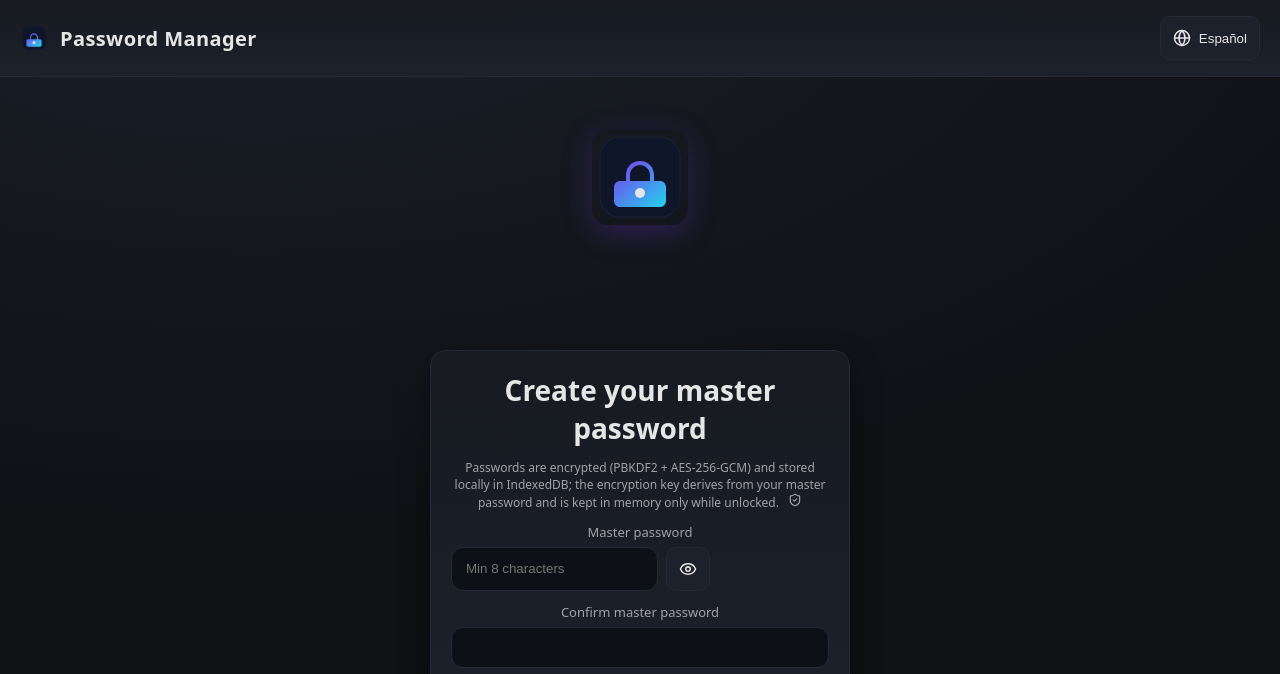
it: session-state › setup flow creates a vault and lands on the manager
Check: the heading "Create your master password" is shown, box left=505, top=371, right=775, bottom=447
Type "Str0ng!Pass" into the password field labelled "Master password" at (554, 569), box left=451, top=547, right=658, bottom=591
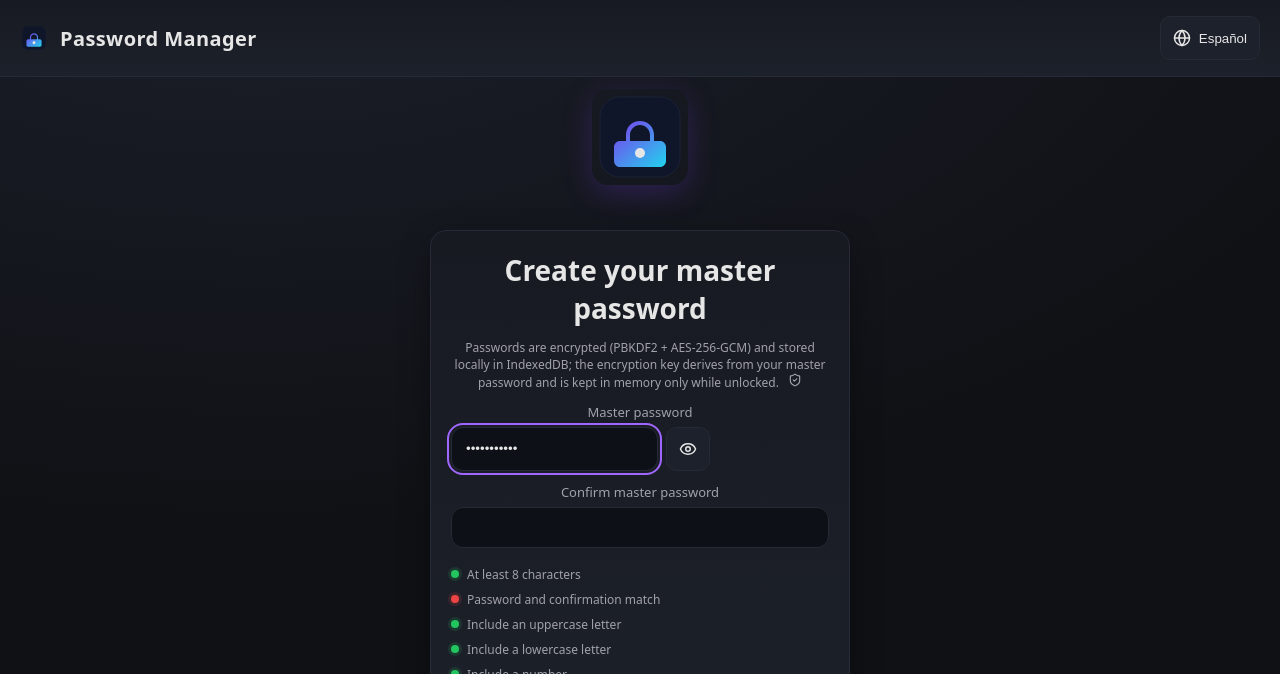
Type "Str0ng!Pass" into the password field labelled "Confirm master password" at (640, 527), box left=451, top=507, right=829, bottom=548
(page scrolled)
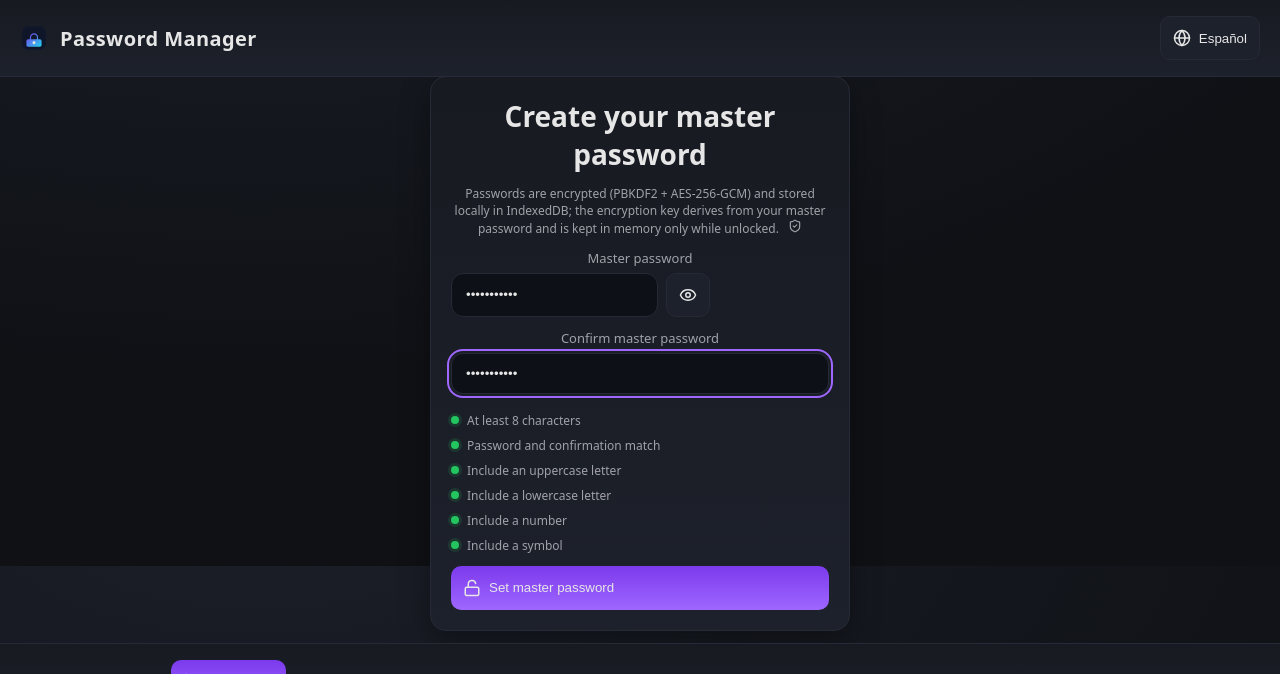
Click the button "Set master password" at (552, 588), box left=451, top=566, right=829, bottom=610
(page scrolled)
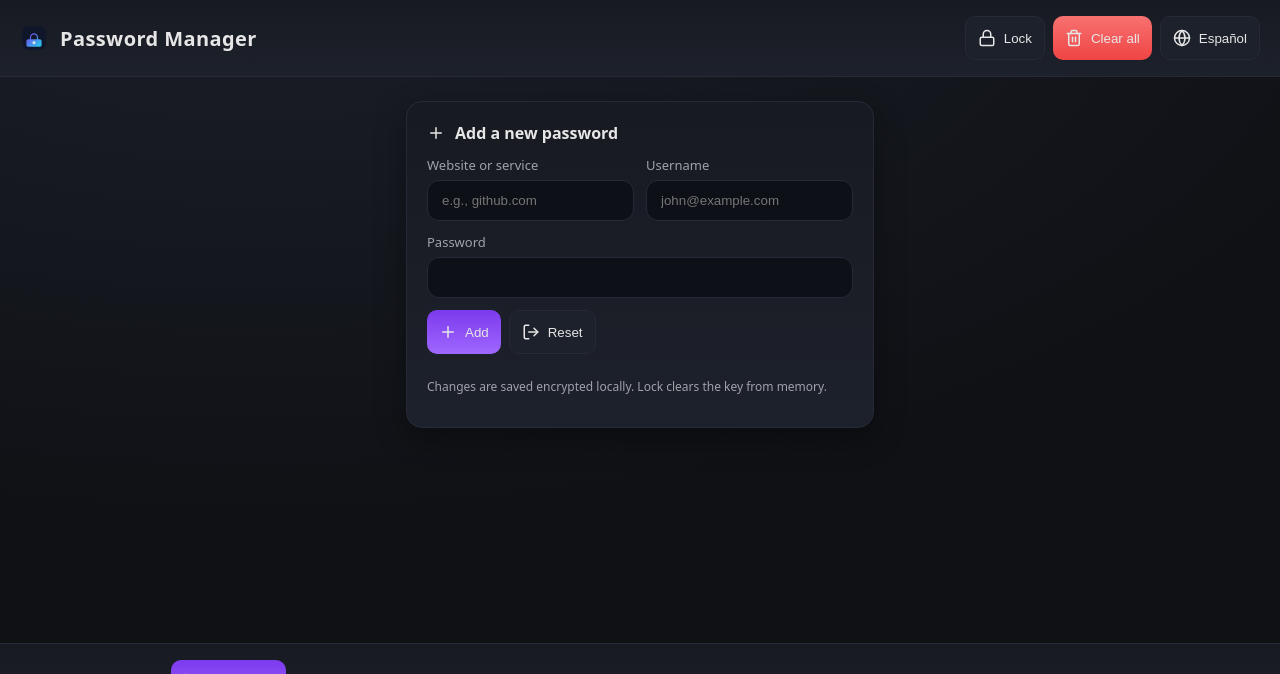
Check: the text "Add a new password" is shown, box left=455, top=122, right=618, bottom=144
